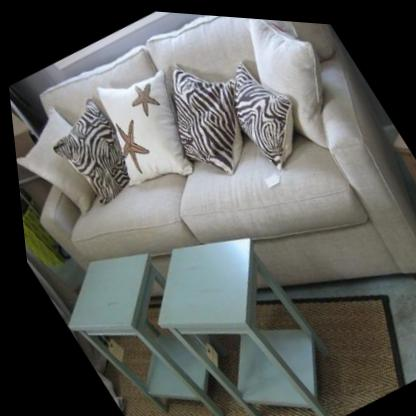Carpet: (106, 373, 309, 416)
Sofa: (0, 0, 416, 416)
Table: (114, 200, 359, 416), (32, 226, 245, 416)
